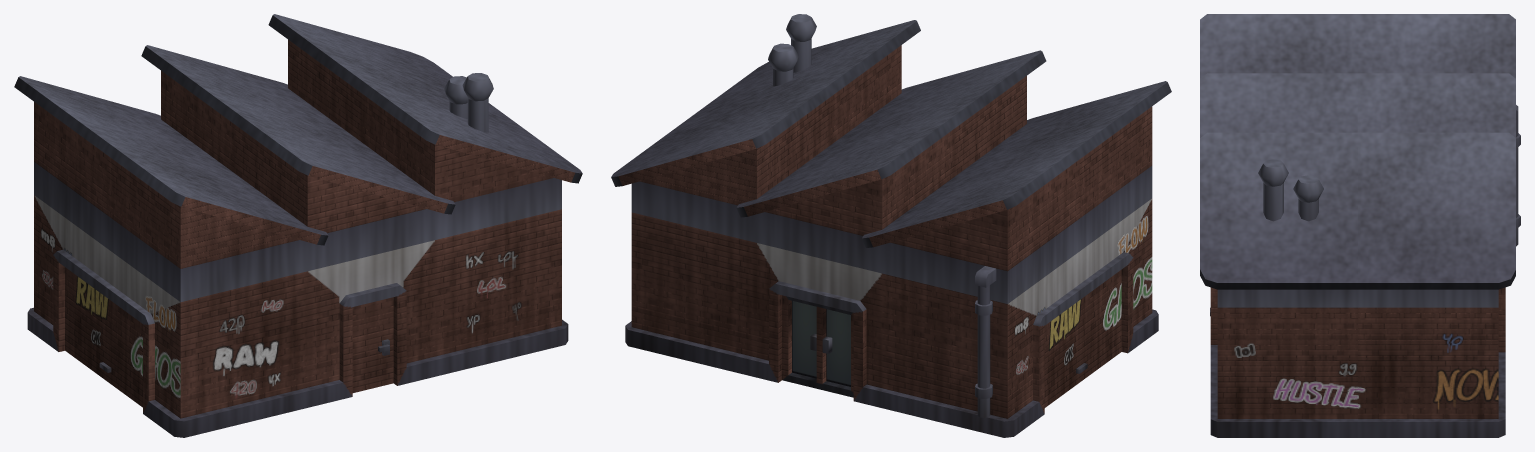
File: building-k-brown-scuffed.glb
The picture shows the model from 3 angles, left to right: view 1: azimuth 30°, elevation 25°; view 2: azimuth 150°, elevation 25°; view 3: azimuth 270°, elevation 25°; orthographic projection. The views are drawn at different scales.
Parts seen in each view (by area): view 1: building-k; view 2: building-k; view 3: building-k.
Boxes of the visible parts, x1,y1,x2,y2 form: building-k: [14, 14, 582, 437]; building-k: [611, 14, 1171, 437]; building-k: [1200, 14, 1520, 437].
Size of the model in its own units: 1.3 by 0.7727 by 0.9136.
Materials: 1 (1 with a texture image).
